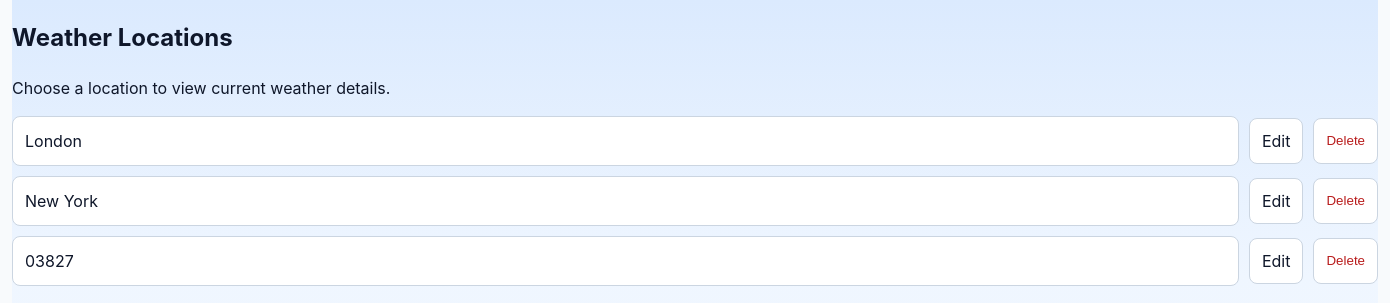
it: LocationsPage › renders location links and handles delete action
Expected: the link "London" is shown, [12, 116, 1239, 166]
Expected: the link "New York" is shown, [12, 176, 1239, 226]
Click the button "Delete" in the row of "London" at {"x": 1346, "y": 141}, box [1314, 118, 1378, 164]
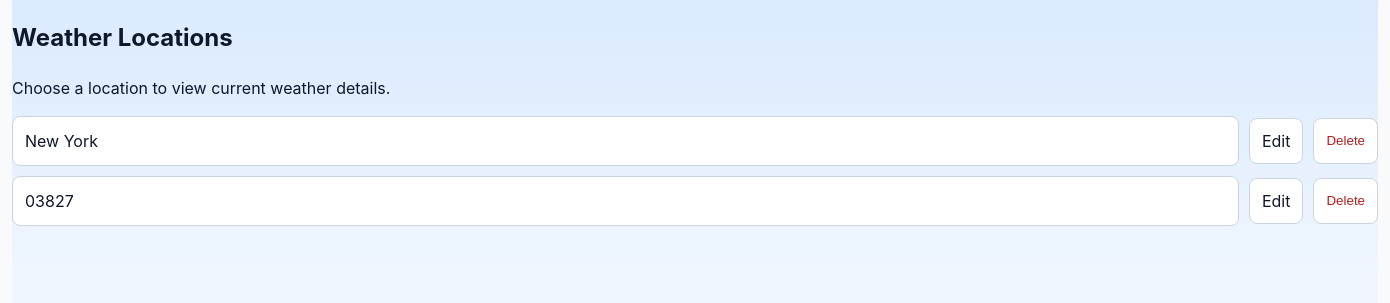
Result: the link "London" is gone
